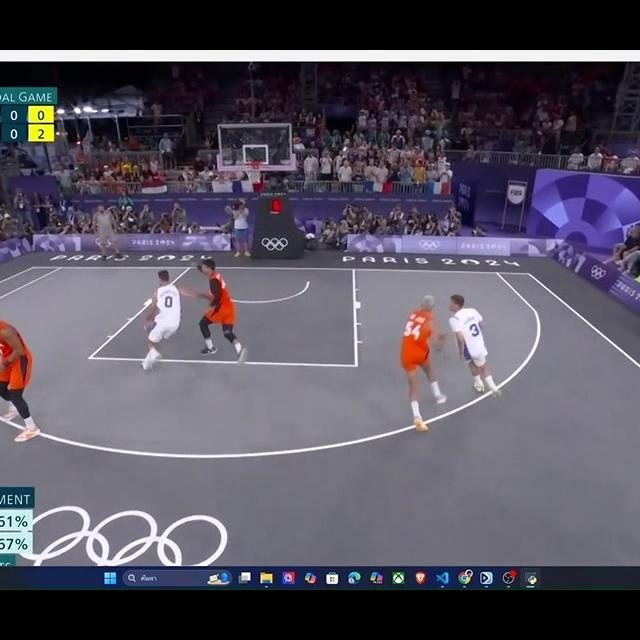basketball: (144, 318, 155, 333)
hoop: (240, 158, 265, 185)
